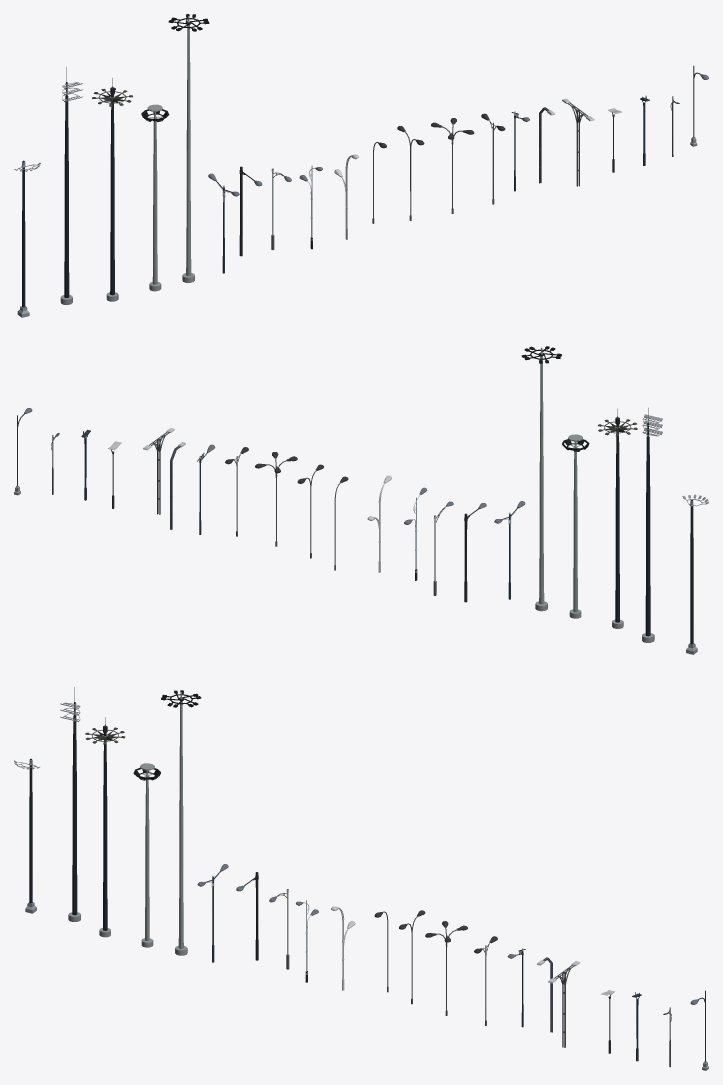
File: StreetLights1.FBX
3 views of the same model, one above another, from view 1: azimuth 30°, elevation 25°; view 2: azimuth 150°, elevation 25°; view 3: azimuth 330°, elevation 25° (orthographic).
Visible parts, largest first — view 1: Object5, Object3, Object2, Object4, Object1; view 2: Object5, Object2, Object3, Object4, Object1; view 3: Object5, Object3, Object2, Object4, Object1.
Part boxes in pixels (left/top/right/bottom): Object5: left=168, top=14, right=209, bottom=282; Object3: left=92, top=78, right=132, bottom=301; Object2: left=60, top=67, right=83, bottom=304; Object4: left=141, top=104, right=169, bottom=291; Object1: left=14, top=160, right=40, bottom=317; Object5: left=521, top=346, right=561, bottom=611; Object2: left=642, top=408, right=662, bottom=642; Object3: left=598, top=409, right=637, bottom=628; Object4: left=562, top=434, right=589, bottom=618; Object1: left=682, top=494, right=708, bottom=654; Object5: left=161, top=690, right=201, bottom=955; Object3: left=85, top=717, right=125, bottom=937; Object2: left=60, top=687, right=80, bottom=921; Object4: left=133, top=763, right=160, bottom=947; Object1: left=14, top=758, right=39, bottom=913.
Size of the model in its own units: 634 by 232 by 53.13.
